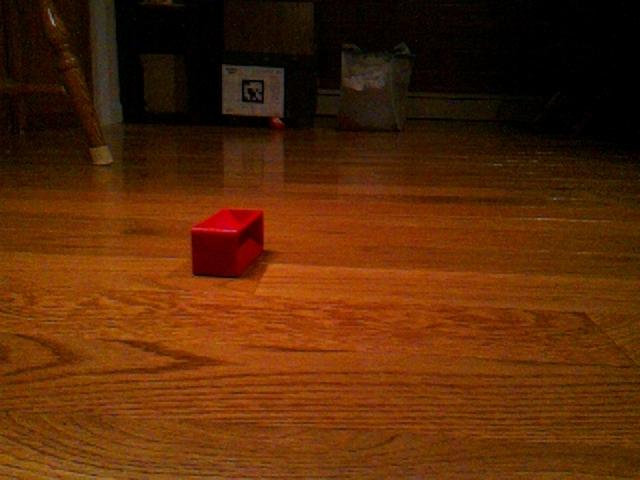red: (189, 207, 266, 279)
